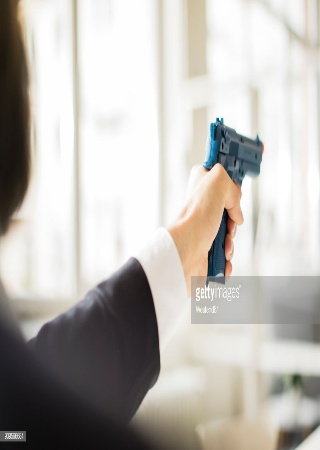handgun: (199, 115, 265, 279)
